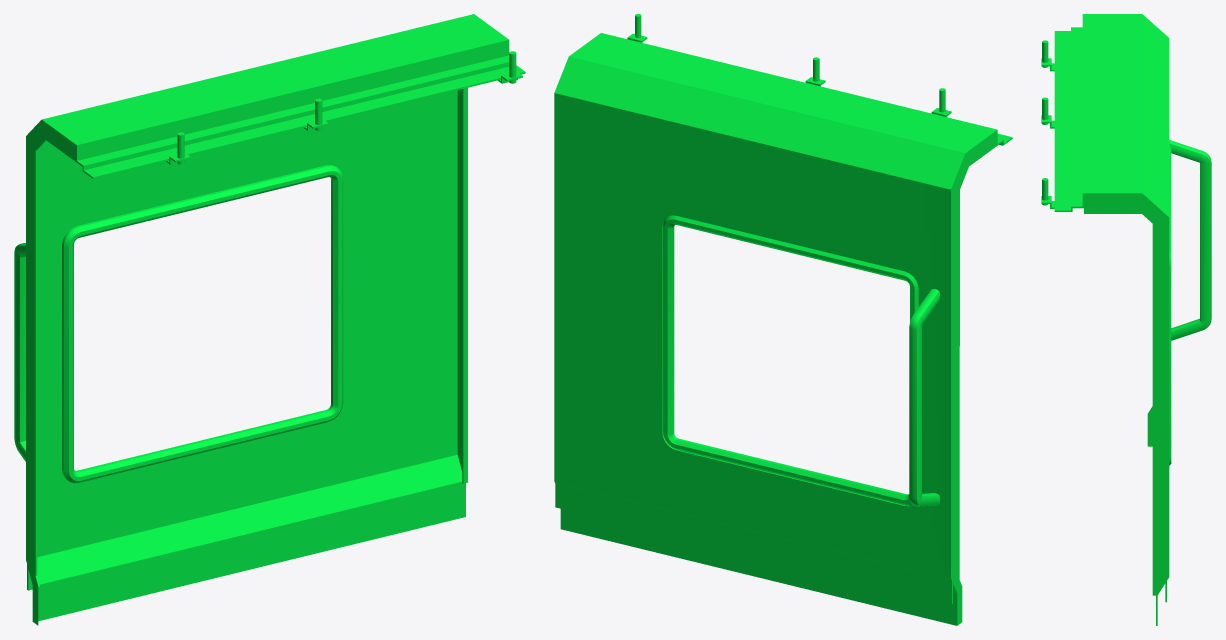
File: L_DOOR.fbx
3 renders of one model, left to right at view 1: azimuth 30°, elevation 25°; view 2: azimuth 150°, elevation 25°; view 3: azimuth 270°, elevation 25°, orthographic. The views are drawn at different scales.
Visible parts, largest first — view 1: MAIN_DOOR_LEFT; view 2: MAIN_DOOR_LEFT; view 3: MAIN_DOOR_LEFT.
Boxes of the visible parts, x1,y1,x2,y2 form: MAIN_DOOR_LEFT: (14, 14, 525, 625); MAIN_DOOR_LEFT: (554, 14, 1012, 625); MAIN_DOOR_LEFT: (1041, 14, 1211, 625).
Size of the model in its own units: 1299 by 520 by 1482.
